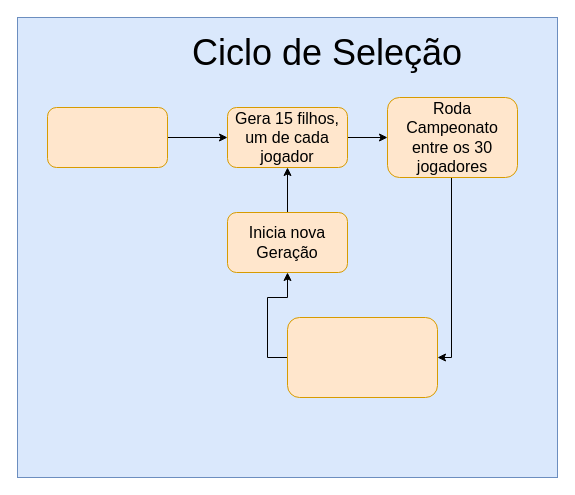
Some shapes in this 575 by 495 pixel diagram are drawn without their labels. Here are the shapes that lost their labels. From the top down, the centre of each, then its label:
At (107,137): "Cria 15 Jogadores".
At (362,357): "Seleciona os 15 jogadores melhor colocados".
